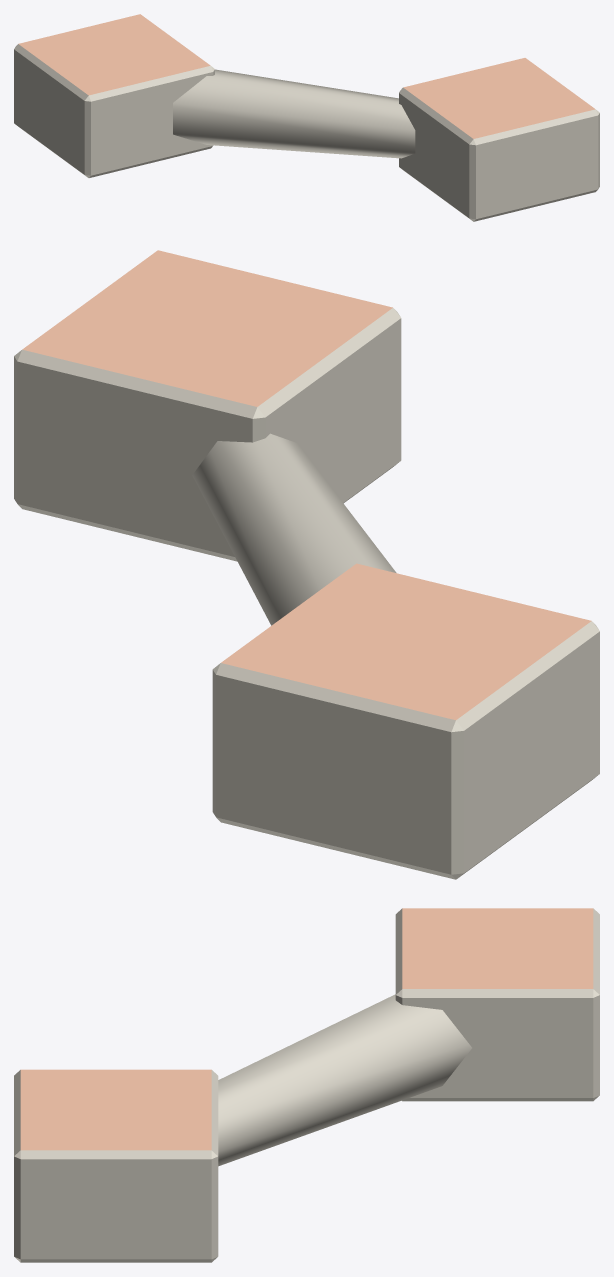
Rendered from R4C_ROD_DIAG_2D_SHORT_LOD1.fbx.
3 renders of one model, top to bottom at view 1: azimuth 30°, elevation 25°; view 2: azimuth 150°, elevation 25°; view 3: azimuth 270°, elevation 25°, orthographic. The views are drawn at different scales.
Visible parts, largest first — view 1: R4C_ROD_DIAG_2D_SHORT_LOD1; view 2: R4C_ROD_DIAG_2D_SHORT_LOD1; view 3: R4C_ROD_DIAG_2D_SHORT_LOD1.
Boxes of the visible parts, x1,y1,x2,y2 form: R4C_ROD_DIAG_2D_SHORT_LOD1: [14, 14, 599, 221]; R4C_ROD_DIAG_2D_SHORT_LOD1: [14, 250, 599, 879]; R4C_ROD_DIAG_2D_SHORT_LOD1: [14, 908, 599, 1262].
Size of the model in its own units: 1.07 by 0.226 by 1.07.
